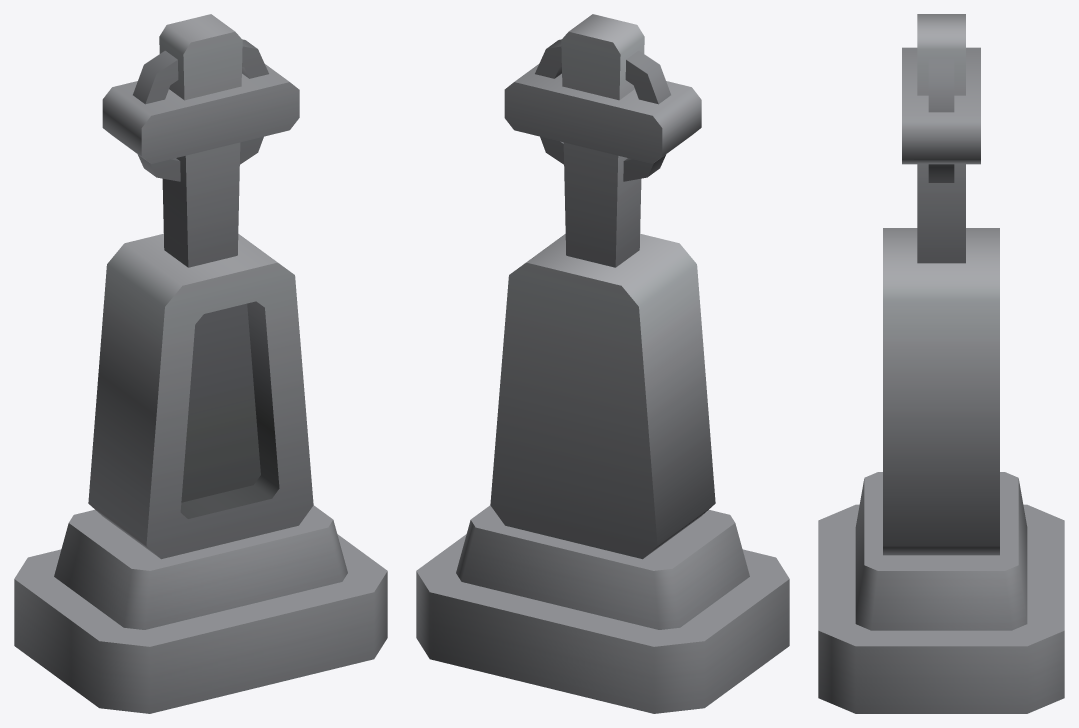
Rendered from gravestone-cross.glb.
3 views of the same model, side by side, from view 1: azimuth 30°, elevation 25°; view 2: azimuth 150°, elevation 25°; view 3: azimuth 270°, elevation 25° (orthographic).
Visible parts, largest first — view 1: gravestone-cross; view 2: gravestone-cross; view 3: gravestone-cross.
Part boxes in pixels (x1,y1,x2,y2): gravestone-cross: (14, 14, 387, 713); gravestone-cross: (416, 14, 789, 713); gravestone-cross: (818, 14, 1064, 713).
Bounding box in the file's own units: 0.675 × 1.37 × 0.495.
1 material, 1 textured.
